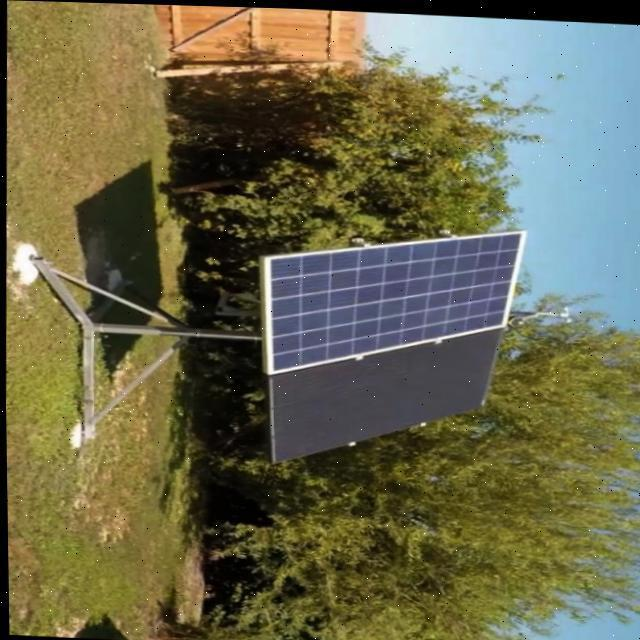Normal Solar Panel: (259, 216, 524, 383), (264, 318, 502, 468)
